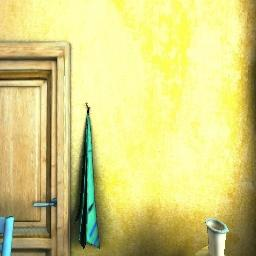door: (0, 35, 76, 256)
